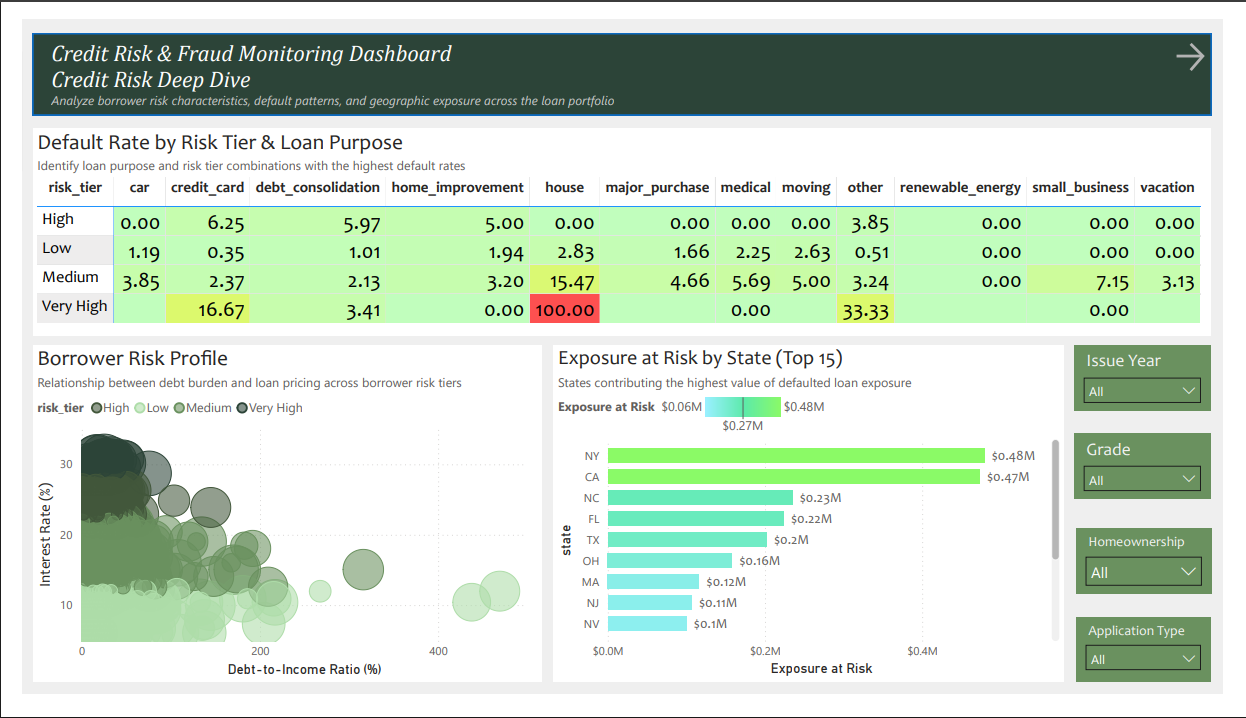

This screenshot's page, from the dashboard's own definition file:
{"tool":"powerbi","page":{"name":"Credit Risk Analysis","canvas":[1280,720],"ordinal":1},"visuals":[{"type":"shape","box":[11,15.1,1255.6,86.4],"z":0},{"type":"textbox","box":[25.7,15.7,1241.4,87.1],"z":1000},{"type":"pivotTable","title":"Default Rate by Risk Tier & Loan Purpose","fields":{"Rows":["public vw_default_by_risk_tier.risk_tier"],"Columns":["public vw_default_by_risk_tier.loan_purpose"],"Values":["Avg(public vw_default_by_risk_tier.default_rate_pct)"]},"box":[11.4,115.7,1254.3,221.4],"z":2000},{"type":"scatterChart","title":"Borrower Risk Profile","fields":{"X":["public fact_loans.debt_to_income"],"Y":["public fact_loans.interest_rate"],"Size":["Sum(public fact_loans.loan_amount)"],"Series":["public dim_grade.risk_tier"]},"box":[11.4,347.1,541.4,358.6],"z":3000},{"type":"clusteredBarChart","title":"Exposure at Risk by State (Top 15)","fields":{"Category":["public dim_borrower.state"],"Y":["_Measures.Exposure at Risk"]},"box":[565.7,347.1,544.3,358.6],"z":4000},{"type":"slicer","fields":{"Values":["public dim_time.issue_year"]},"box":[1121.4,347.1,144.3,70],"z":5000},{"type":"slicer","fields":{"Values":["public dim_grade.grade"]},"box":[1121.4,441.4,144.3,70],"z":6000},{"type":"slicer","fields":{"Values":["public dim_borrower.homeownership"]},"box":[1122.9,542.9,144.3,70],"z":7000},{"type":"slicer","fields":{"Values":["public dim_borrower.application_type"]},"box":[1122.9,637.1,142.9,68.6],"z":8000},{"type":"actionButton","box":[1224,20,42,40],"z":8001}]}

Visuals, with their boxes in screenshot pixels (x1, y1, x2, y2), scaled from the page's 1280x720 canvas onto the 1246x718 screenshot:
shape: bbox=[11, 15, 1233, 101]
textbox: bbox=[25, 16, 1233, 103]
"Default Rate by Risk Tier & Loan Purpose" pivotTable: bbox=[11, 115, 1232, 336]
"Borrower Risk Profile" scatterChart: bbox=[11, 346, 538, 704]
"Exposure at Risk by State (Top 15)" clusteredBarChart: bbox=[551, 346, 1081, 704]
slicer - public dim_time.issue_year: bbox=[1092, 346, 1232, 416]
slicer - public dim_grade.grade: bbox=[1092, 440, 1232, 510]
slicer - public dim_borrower.homeownership: bbox=[1093, 541, 1234, 611]
slicer - public dim_borrower.application_type: bbox=[1093, 635, 1232, 704]
actionButton: bbox=[1191, 20, 1232, 60]
